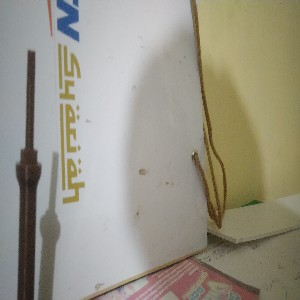obeng: (15, 49, 43, 300)
